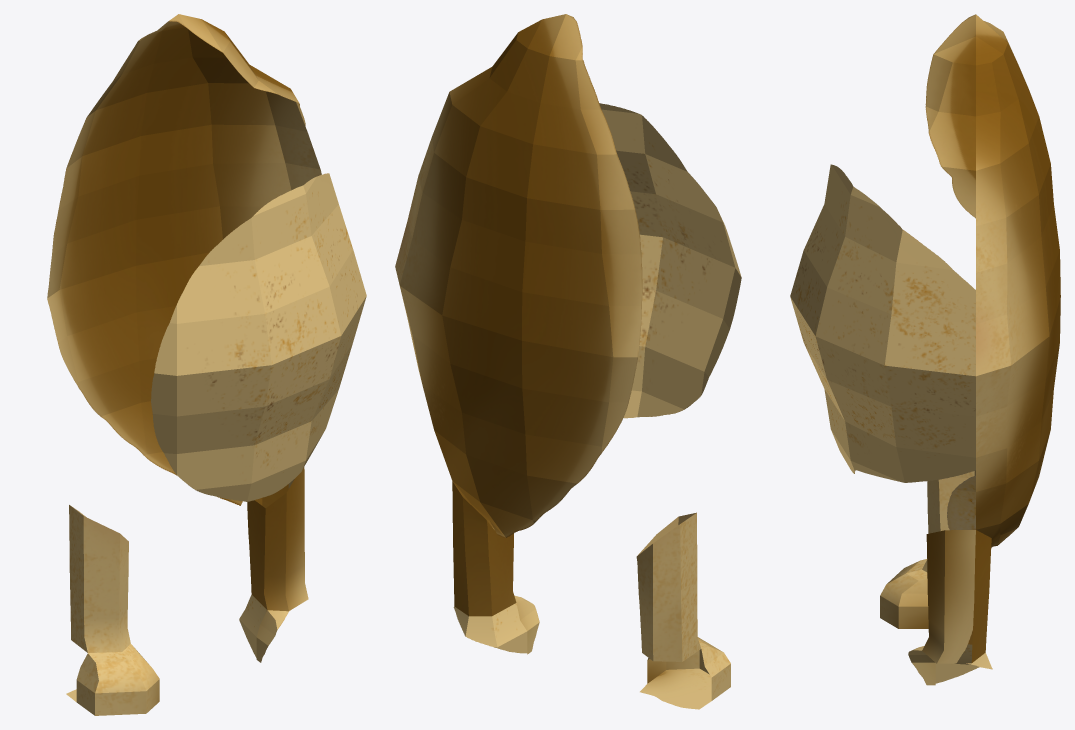
The model's file is Yucat_texturizado.fbx.
The picture shows the model from 3 angles, left to right: view 1: azimuth 30°, elevation 25°; view 2: azimuth 150°, elevation 25°; view 3: azimuth 270°, elevation 25°; orthographic projection. The views are drawn at different scales.
Parts seen in each view (by area): view 1: pCylinder19; view 2: pCylinder19; view 3: pCylinder19.
Part boxes in pixels (x1,y1,x2,y2): pCylinder19: (47,14,366,715); pCylinder19: (395,14,741,709); pCylinder19: (790,14,1060,685).
Size of the model in its own units: 85.58 by 160 by 61.23.
